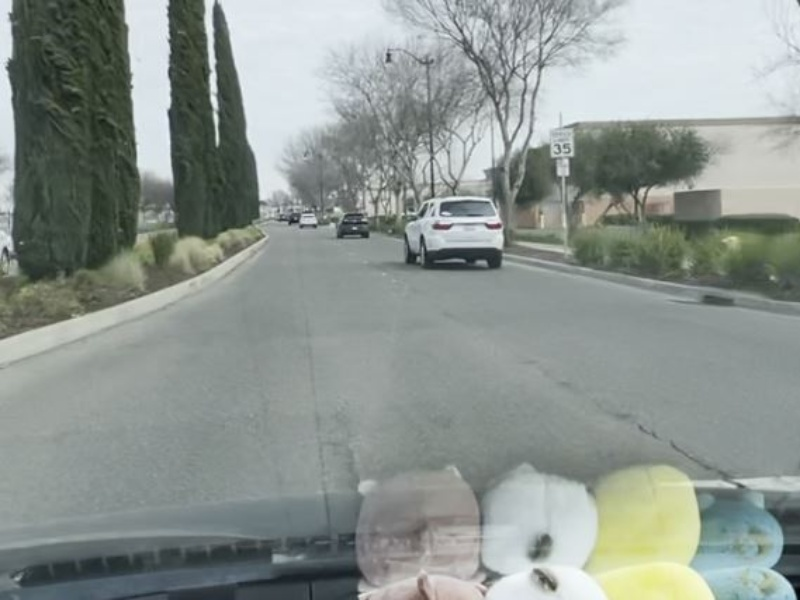speed limit sign: (547, 125, 576, 160)
